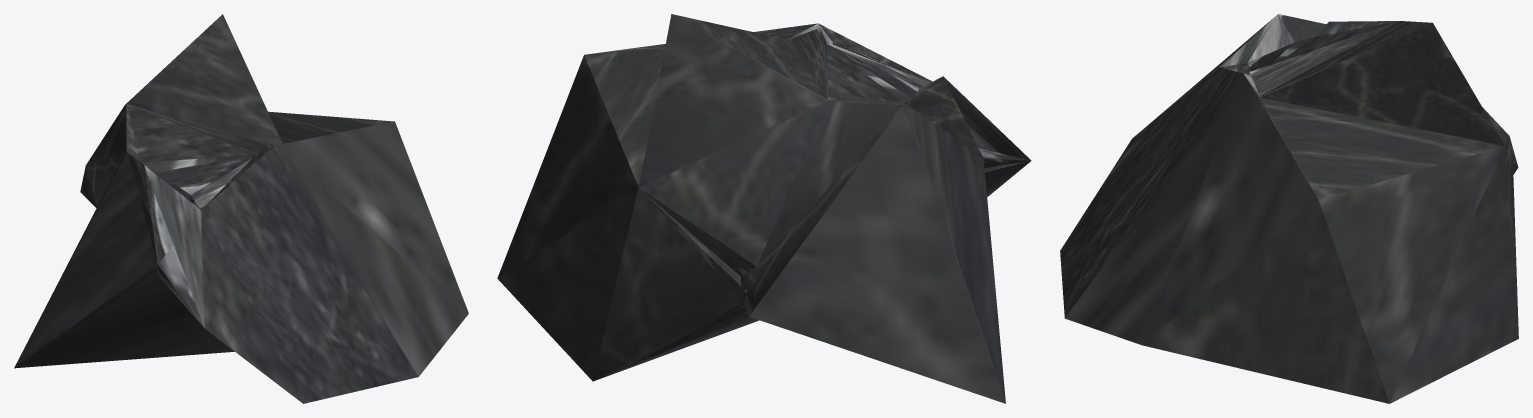
Rendered from fc_frostfractured_coastal_rock_lod2.glb.
3 views of the same model, side by side, from view 1: azimuth 30°, elevation 25°; view 2: azimuth 150°, elevation 25°; view 3: azimuth 270°, elevation 25° (orthographic). The views are drawn at different scales.
Parts seen in each view (by area): view 1: mesh; view 2: mesh; view 3: mesh.
Boxes of the visible parts, left/top/right/bottom form: mesh: left=14, top=14, right=468, bottom=403; mesh: left=497, top=14, right=1031, bottom=403; mesh: left=1060, top=14, right=1518, bottom=403.
Bounding box in the file's own units: 1.62 × 1.08 × 1.46.
1 material, 1 textured.
